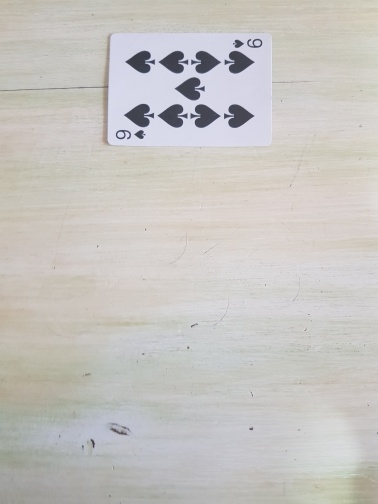nine: (105, 30, 274, 148)
